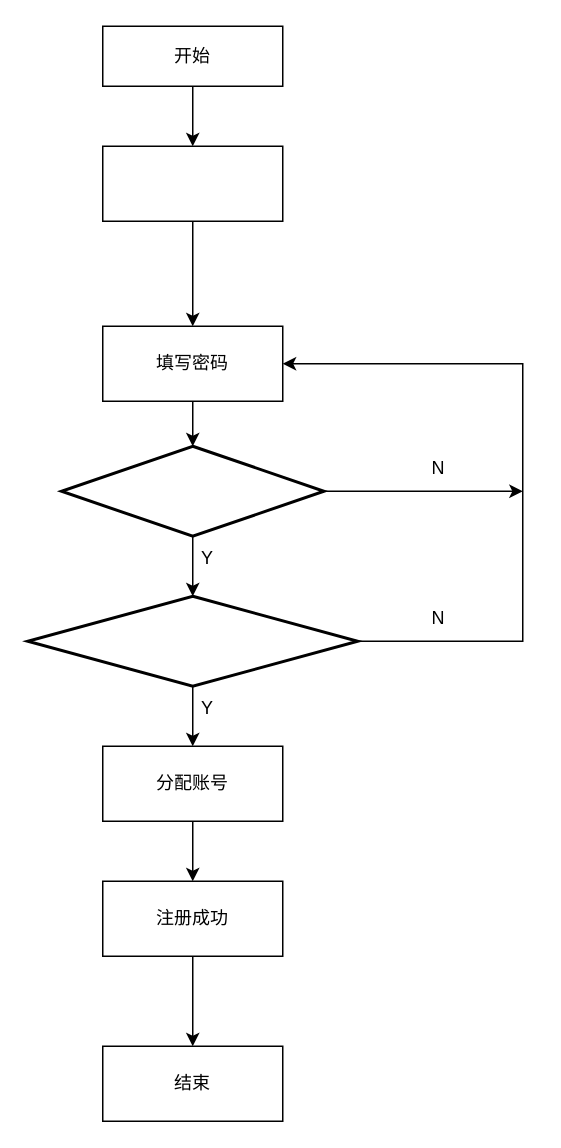
The diagram is 561 pixels wide and 1148 high, and some of its shapes have lost their labels. The centre of each missing label's shape, as x and y in pixels:
两次输入密码是否一致？: pixel 192 640
开户注册: pixel 192 183
输入项是否为6位整数？: pixel 192 490
